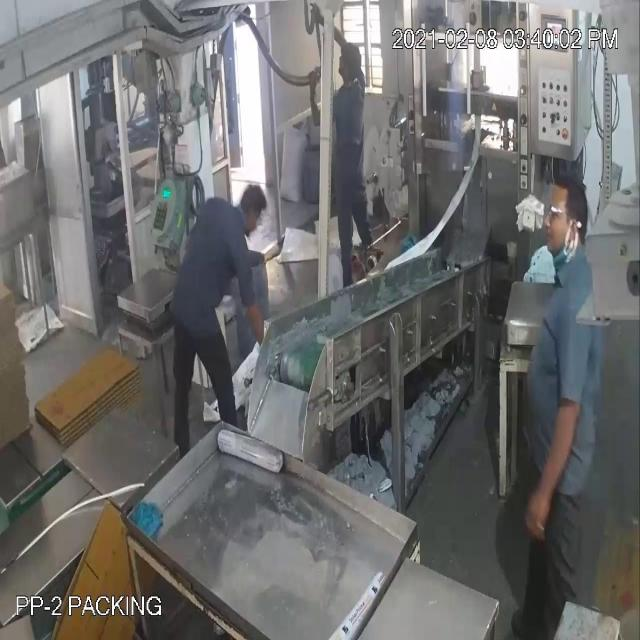No_Gloves: (512, 382, 586, 556)
